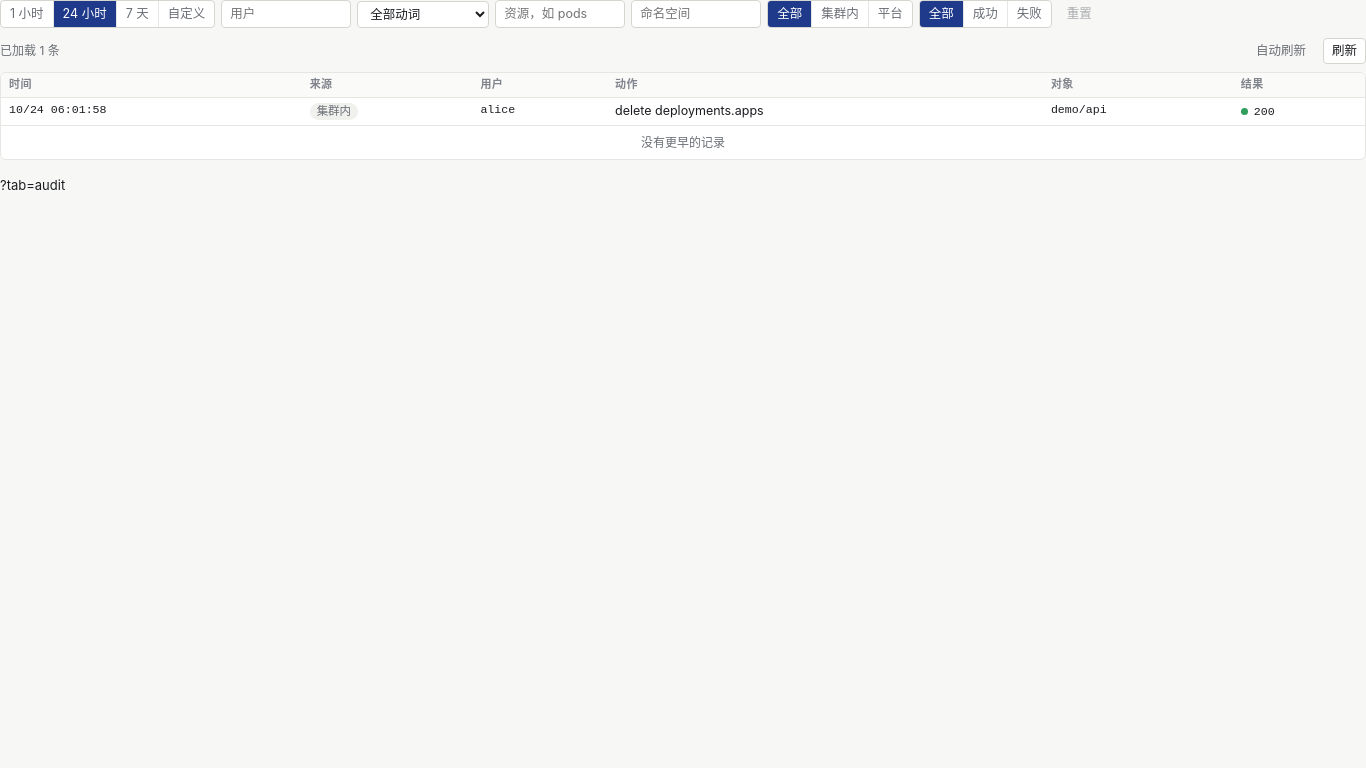
Test: AuditView › lists events, opens the drawer and syncs ?event=
The width and height of the screenshot is (1366, 768).
Click the text "delete deployments.apps" at [689, 110], box [607,97,1043,125]
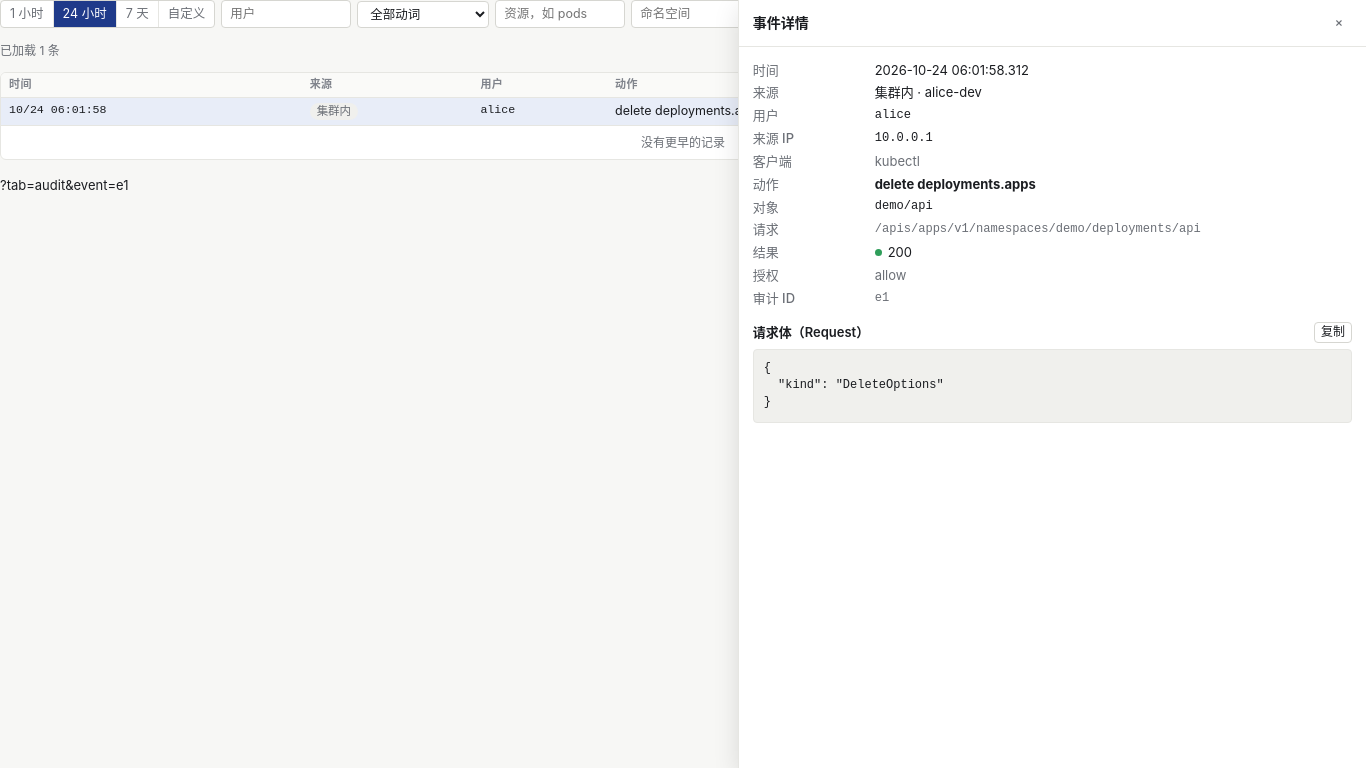
Result: the dialog "事件详情" is shown at [738,0,1365,767]
Result: the text "{ \"kind\": \"DeleteOptions\" }" is shown at [753,349,1352,423]
Result: the text with test id "search" shows "event=e1" at [0,177,128,193]
Press Escape
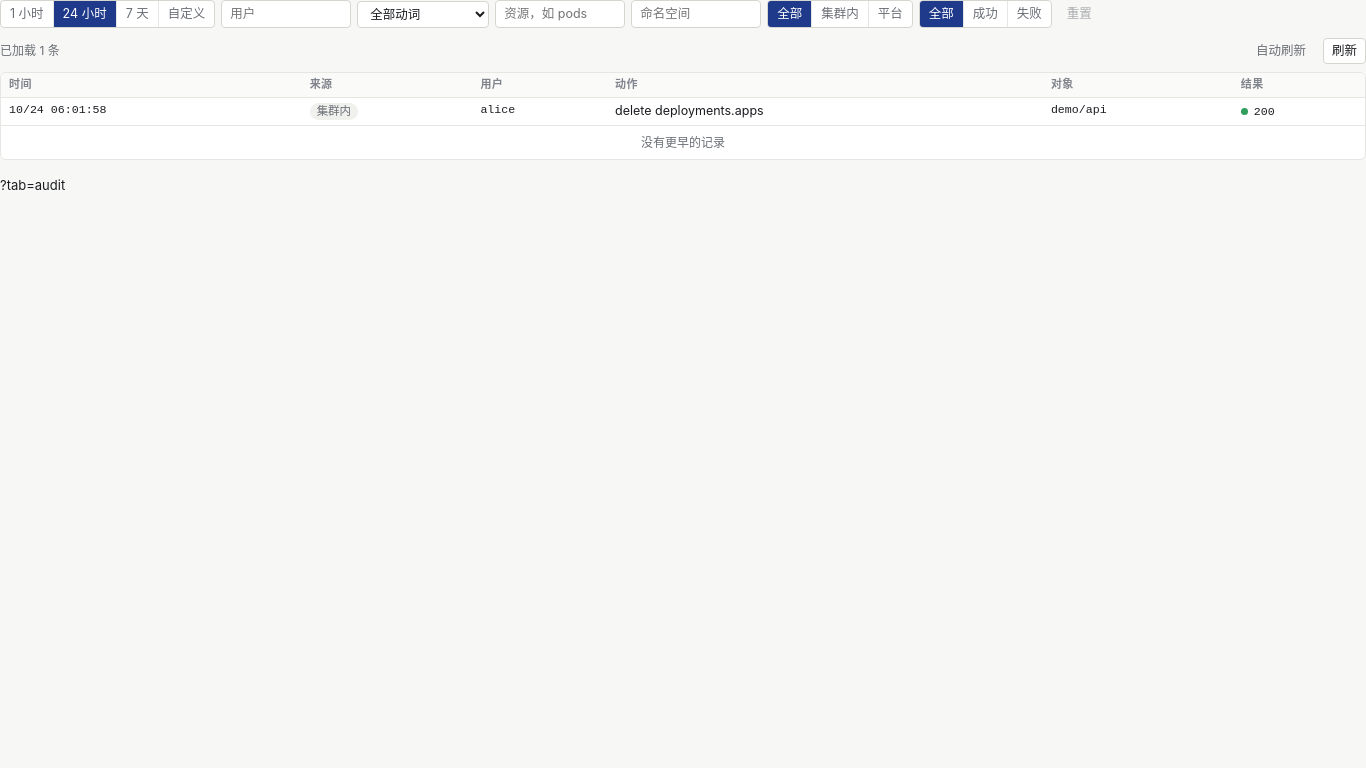
Result: the dialog is gone
Result: the text with test id "search" no longer shows "event="
